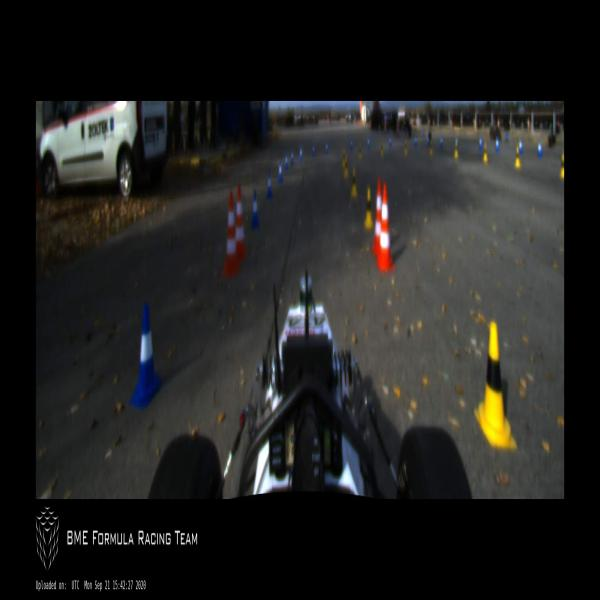blue_cone: (129, 302, 163, 409), (251, 190, 259, 228), (266, 170, 272, 199), (278, 159, 283, 182), (537, 138, 543, 156), (496, 135, 500, 153), (478, 136, 483, 150), (519, 138, 523, 155), (299, 146, 303, 162), (285, 153, 288, 170), (426, 136, 430, 147), (291, 150, 294, 164), (312, 143, 315, 156), (350, 138, 353, 151), (367, 136, 370, 149), (389, 135, 392, 148), (440, 135, 443, 148), (326, 142, 328, 154), (415, 136, 417, 147), (456, 136, 458, 147)
large_orange_cone: (222, 190, 241, 277), (377, 183, 395, 270), (235, 183, 246, 261), (372, 177, 382, 259)
yellow_cone: (474, 321, 516, 448), (364, 188, 373, 229), (351, 168, 357, 198), (515, 145, 521, 167), (483, 141, 488, 164), (560, 153, 564, 179), (344, 157, 348, 179), (454, 141, 458, 159), (429, 139, 433, 156), (358, 142, 362, 159), (380, 142, 384, 158), (342, 149, 345, 168), (404, 140, 407, 154)
